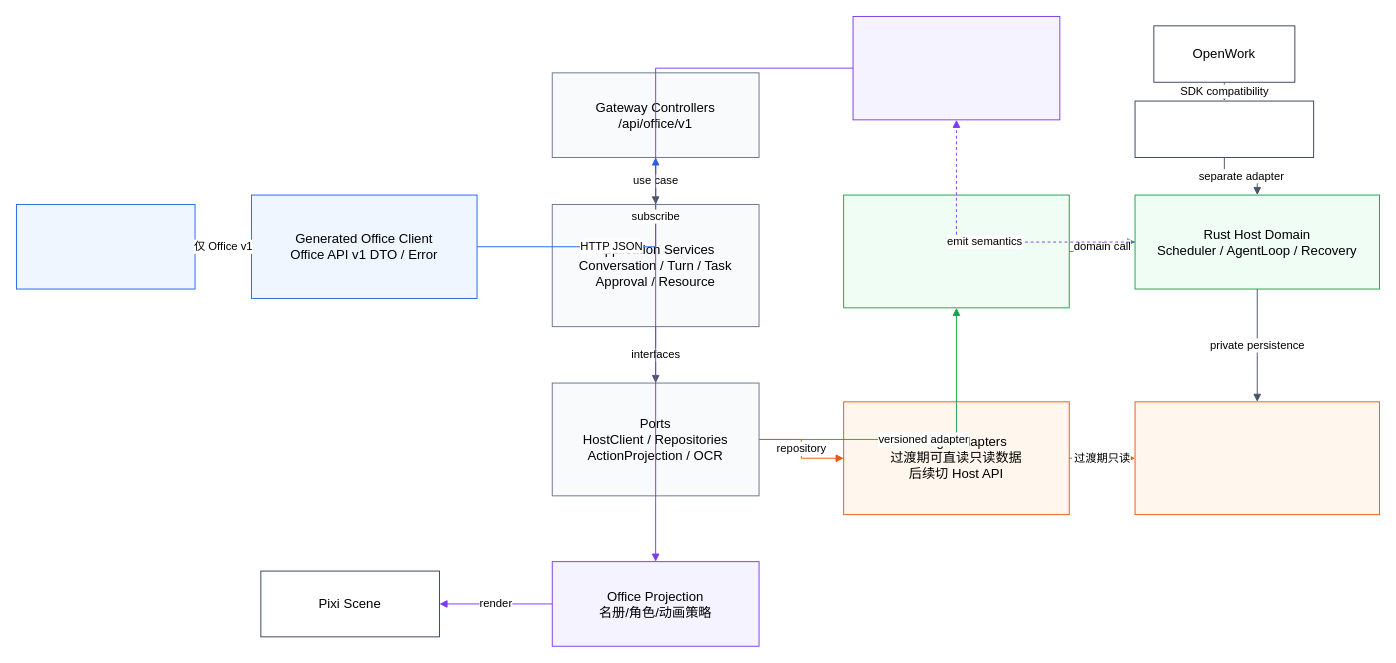
Some shapes in this 1396 by 663 pixel diagram are drawn without their labels. The centre of each missing label's shape, as x and y in pixels:
Office Engine API v1 session / turn / approval 版本化内部协议: point 956,251
OpenCode Compat v1: point 1224,128
OpenPaw 私有存储 JSONL / Goals / Skills 格式不出边界: point 1256,458
React Features 只处理 UI 状态: point 105,246
Semantic Event Stream tool.started / turn.finished 无 rosterNo: point 956,68
